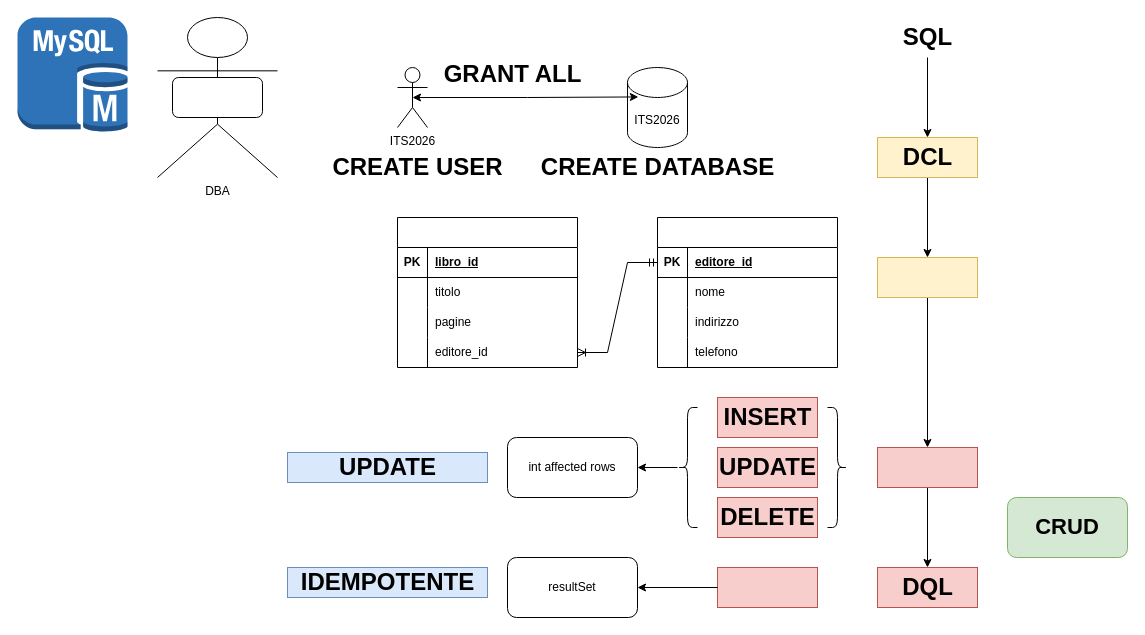
Some shapes in this 1145 by 635 pixel diagram are drawn without their labels. The box of each missing label's shape, as (x1, y1, x2, y2) in pixels:
DDL: (876, 256, 978, 298)
DML: (876, 446, 978, 488)
editori: (656, 216, 838, 368)
libri: (396, 216, 578, 368)
root: (172, 76, 262, 118)
SELECT: (716, 566, 818, 608)
